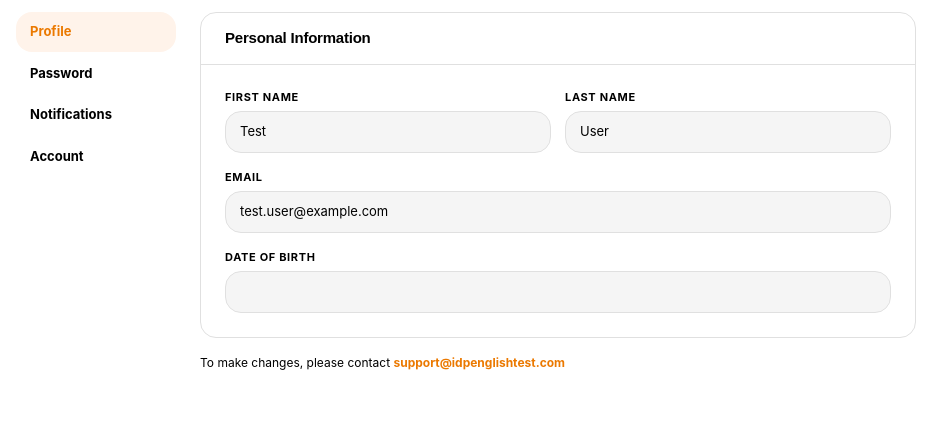
Test: Settings › Password Tab › renders password change form fields
The width and height of the screenshot is (933, 437).
Step 1. Click the tab "Password" → (96, 73), box [16, 54, 176, 93]
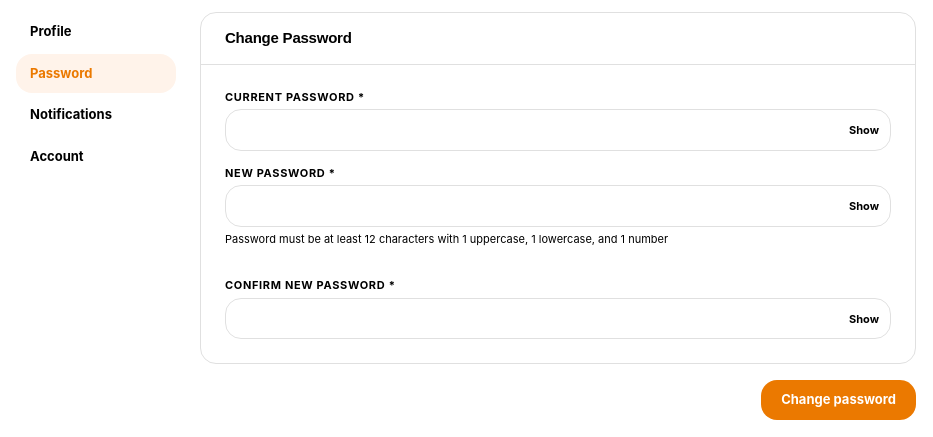
Now the password field labelled "Current Password *" is shown, box [225, 109, 891, 151]
Now the password field with id "new-password" is shown, box [225, 185, 891, 227]
Now the password field labelled "Confirm New Password *" is shown, box [225, 298, 891, 339]
